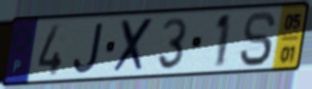1: (214, 12, 234, 70)
3: (156, 17, 190, 71)
4: (36, 23, 65, 79)
J: (72, 20, 106, 75)
S: (237, 9, 279, 69)
X: (111, 15, 157, 76)
